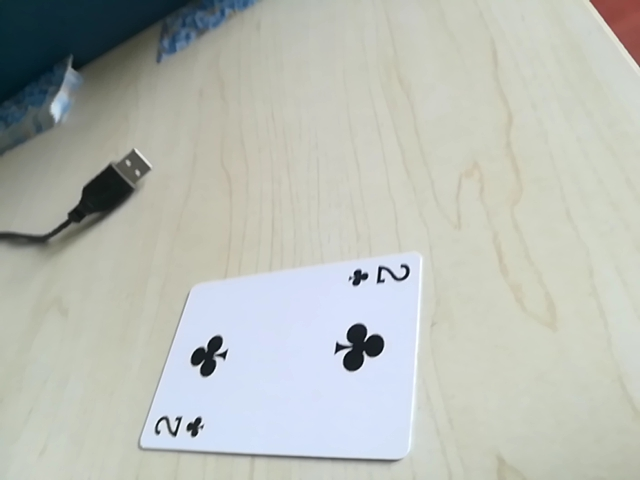mh 2: (145, 409, 209, 449), (345, 257, 416, 292)
